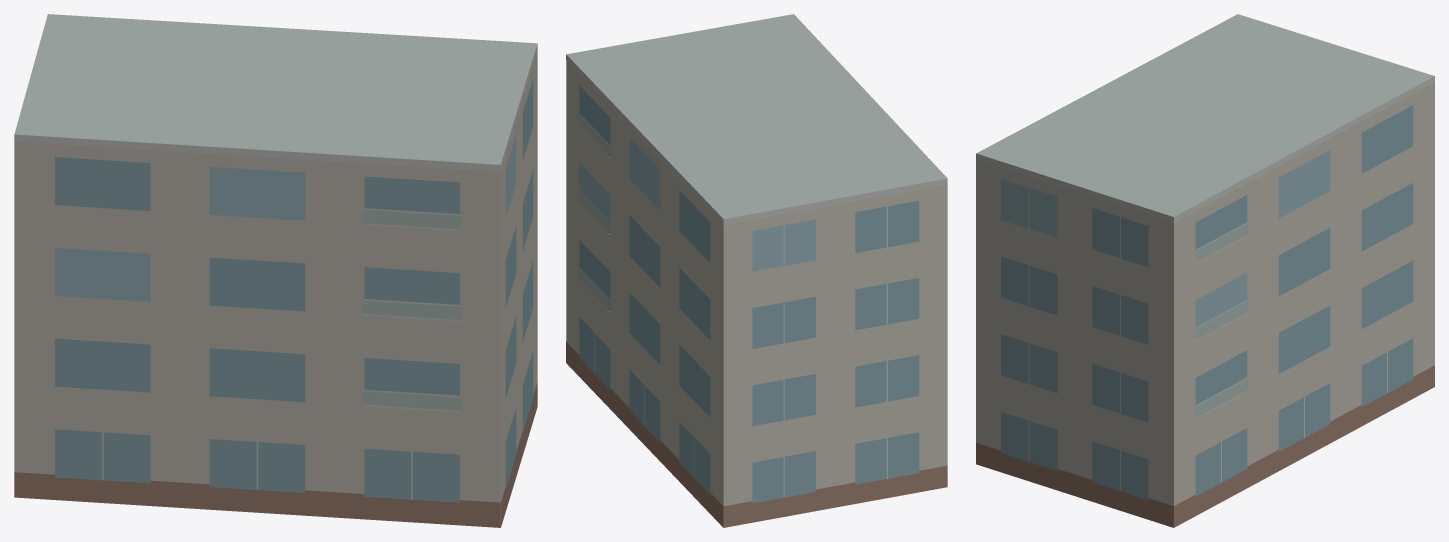
Rendered from survey-upis-32810746.glb.
The picture shows the model from 3 angles, left to right: view 1: azimuth 30°, elevation 25°; view 2: azimuth 150°, elevation 25°; view 3: azimuth 270°, elevation 25°; orthographic projection. The views are drawn at different scales.
Parts seen in each view (by area): view 1: survey-upis-32810746.tmp; view 2: survey-upis-32810746.tmp; view 3: survey-upis-32810746.tmp.
Part boxes in pixels (x1,y1,x2,y2): survey-upis-32810746.tmp: (14, 14, 537, 527); survey-upis-32810746.tmp: (566, 14, 947, 527); survey-upis-32810746.tmp: (976, 14, 1434, 527).
Size of the model in its own units: 17.38 by 12.4 by 16.59.
